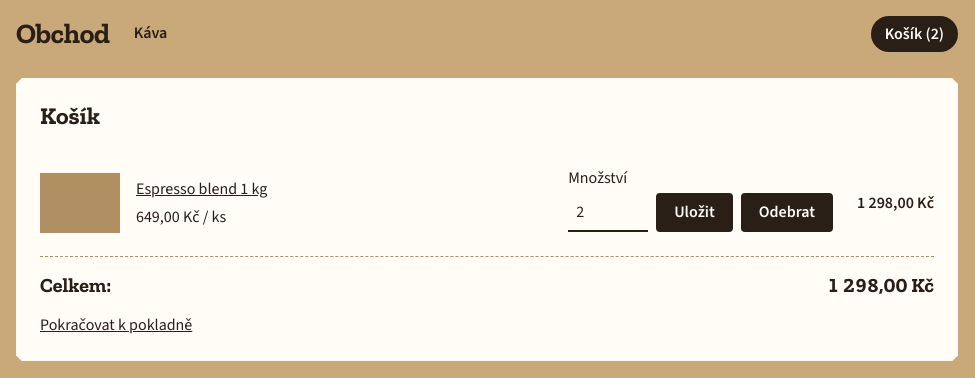
Test case: changes quantity and total
expect the text "1 298,00 Kč" in the row of "Celkem:" is shown: met, box [827, 273, 934, 297]
Replace the text in the number field labelled "Množství" with "3". click: [608, 213]
box: [568, 194, 648, 232]
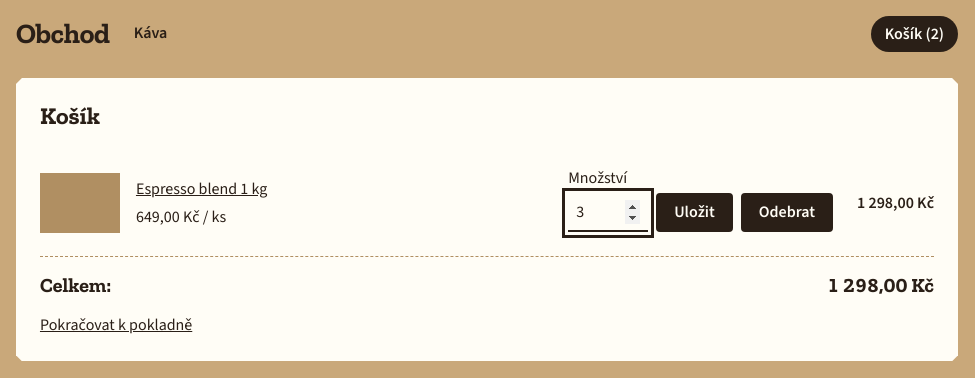
Click the button "Uložit". click: [694, 213]
box: [656, 193, 733, 232]
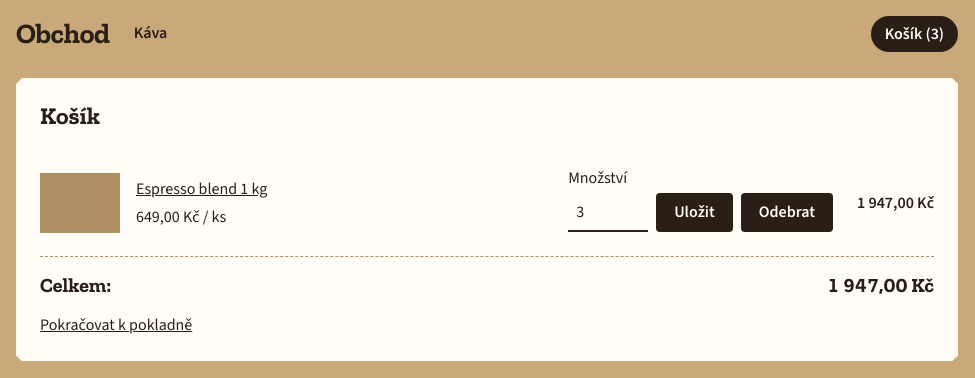
expect the text "1 947,00 Kč" in the row of "Celkem:" is shown: met, box [827, 273, 934, 297]
expect the link "Košík (3)" is shown: met, box [871, 16, 958, 52]
